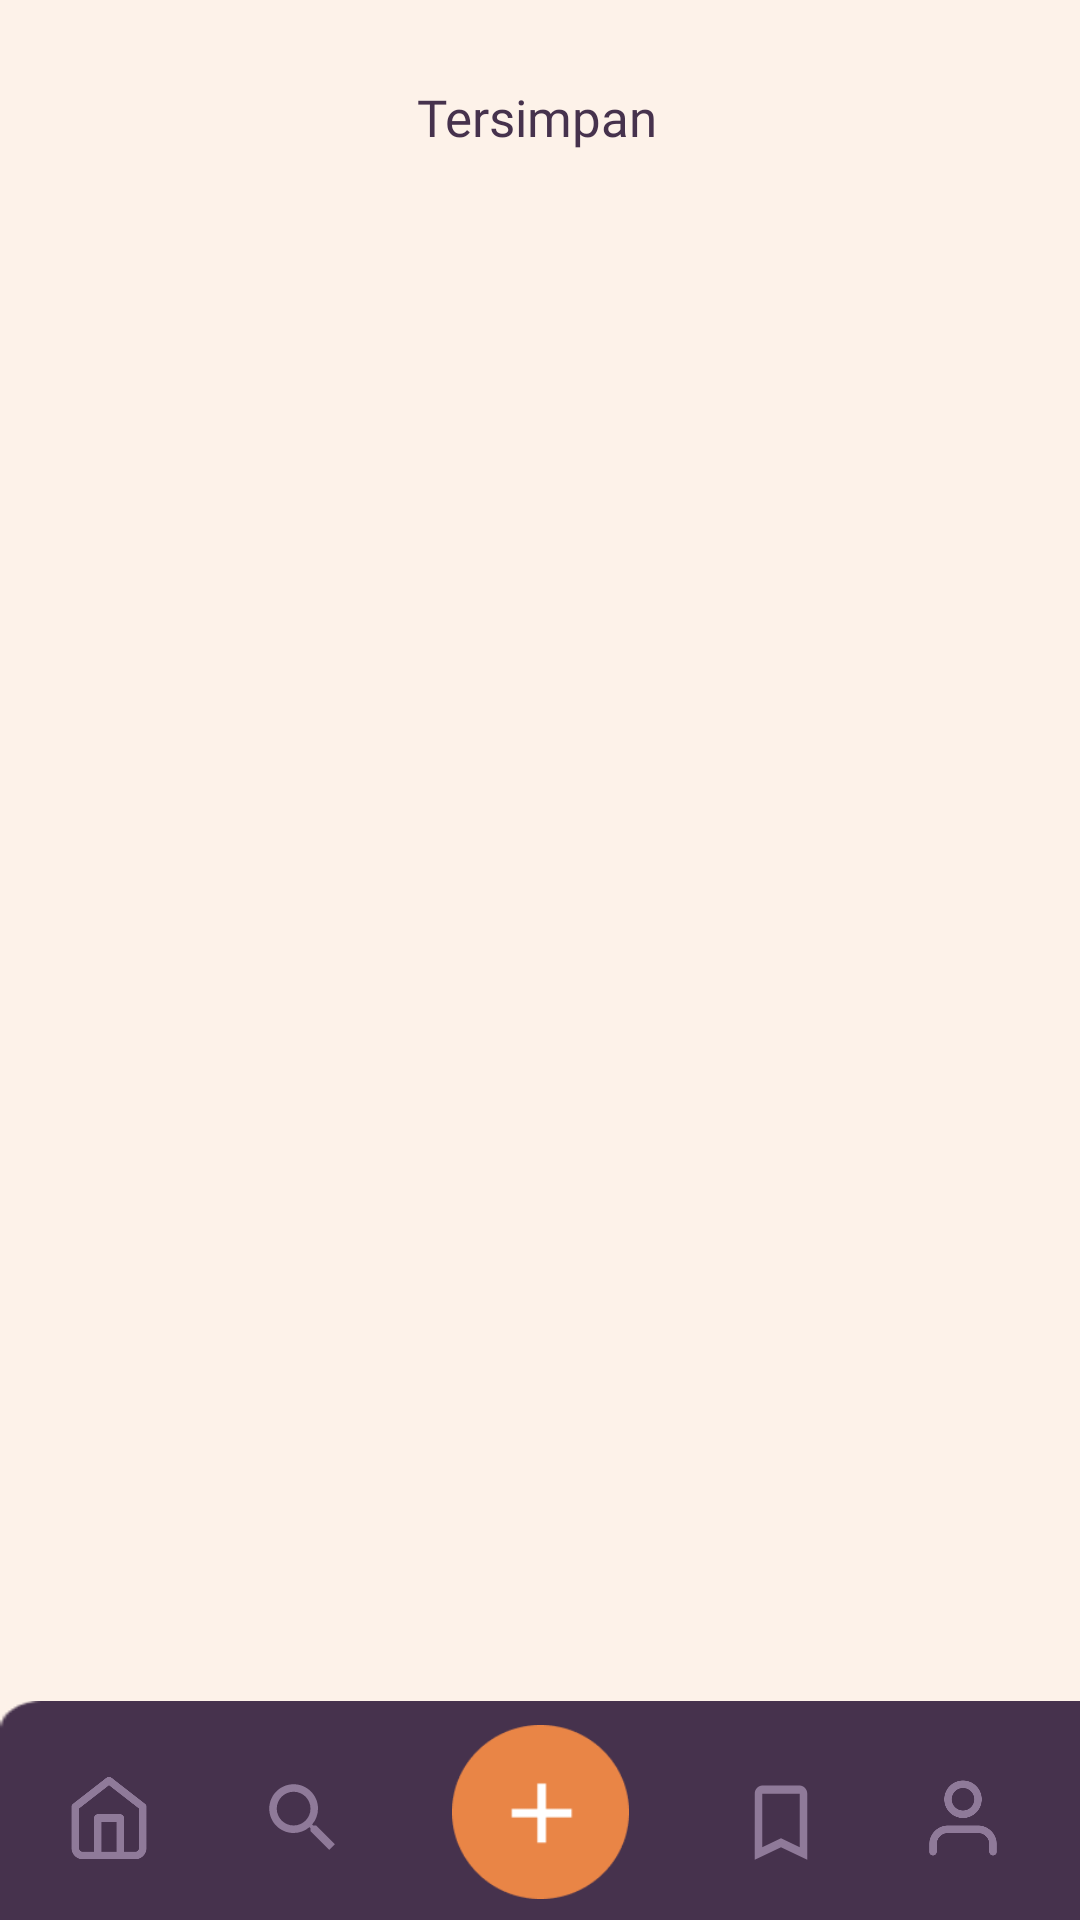

Icons on this 1080px×1920px Android screen, each with its box as (x1, y1, x2, y2):
bookmark border: (755, 1785, 807, 1860)
homee: (71, 1777, 147, 1859)
search: (269, 1784, 335, 1850)
user: (929, 1780, 997, 1856)
